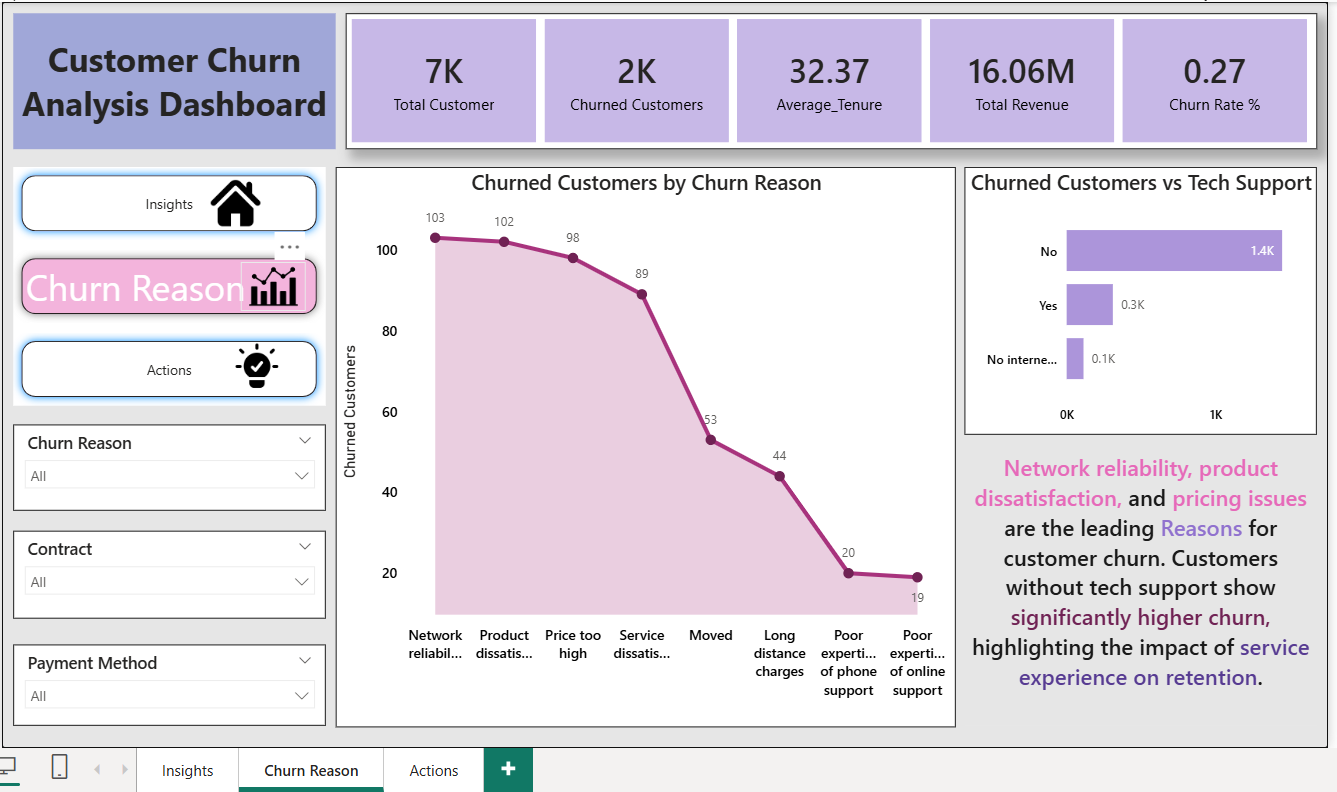

Layout of this report page (visuals, bound fields, positions):
{"tool":"powerbi","page":{"name":"Churn Reason","canvas":[1280,720],"ordinal":1},"visuals":[{"type":"textbox","box":[10.9,10.9,311.3,131.5],"z":0},{"type":"cardVisual","fields":{"Data":["Telco_Churn.Total Customer","Telco_Churn.Churned Customers","Telco_Churn.Average_Tenure","Telco_Churn.Total Revenue","Telco_Churn.Churn Rate %"]},"box":[331.8,10.9,937.4,131.5],"z":1000},{"type":"pageNavigator","box":[10.9,159.3,301.6,230.4],"z":2000},{"type":"image","box":[194.2,170.1,62.7,48.3],"z":3000},{"type":"slicer","fields":{"Values":["Telco_Churn.Churn Reason"]},"box":[10.9,407.8,301.6,83.2],"z":4000},{"type":"slicer","fields":{"Values":["Telco_Churn.Contract"]},"box":[10.9,510.3,301.6,84.5],"z":5000},{"type":"slicer","fields":{"Values":["Telco_Churn.Payment Method"]},"box":[10.9,620.1,301.6,78.4],"z":6000},{"type":"image","box":[230.4,250.9,62.7,47.1],"z":7000},{"type":"image","box":[211.1,328,70,47.1],"z":8000},{"type":"lineChart","fields":{"Category":["Telco_Churn.Churn Reason"],"Y":["Telco_Churn.Churned Customers"]},"box":[322.1,159.3,598.4,540.5],"z":9000},{"type":"barChart","title":"Churned Customers vs Tech Support","fields":{"Y":["Telco_Churn.Churned Customers"],"Category":["Telco_Churn.Tech Support"]},"box":[929,159.3,340.2,258.2],"z":10000},{"type":"textbox","box":[929,429.5,340.2,269],"z":11000}]}

Visuals, with their boxes in screenshot pixels (x1, y1, x2, y2):
textbox: [x1=15, y1=11, x2=335, y2=147]
cardVisual - Telco_Churn.Total Customer x Telco_Churn.Churned Customers: [x1=345, y1=11, x2=1311, y2=147]
pageNavigator: [x1=15, y1=164, x2=325, y2=401]
image: [x1=204, y1=175, x2=268, y2=225]
slicer - Telco_Churn.Churn Reason: [x1=15, y1=420, x2=325, y2=506]
slicer - Telco_Churn.Contract: [x1=15, y1=526, x2=325, y2=613]
slicer - Telco_Churn.Payment Method: [x1=15, y1=639, x2=325, y2=720]
image: [x1=241, y1=258, x2=305, y2=307]
image: [x1=221, y1=338, x2=293, y2=386]
lineChart - Telco_Churn.Churn Reason x Telco_Churn.Churned Customers: [x1=335, y1=164, x2=952, y2=721]
"Churned Customers vs Tech Support" barChart: [x1=960, y1=164, x2=1311, y2=430]
textbox: [x1=960, y1=442, x2=1311, y2=720]
